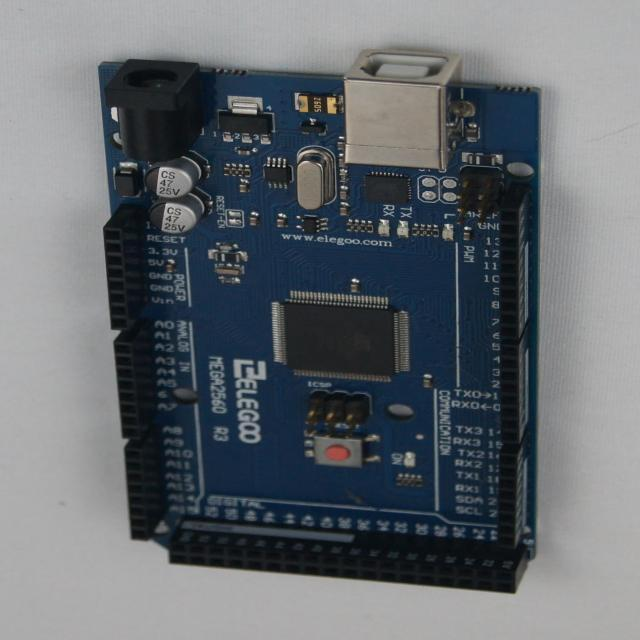Arduino Mega 2560 -Blue-: (100, 49, 539, 594)
